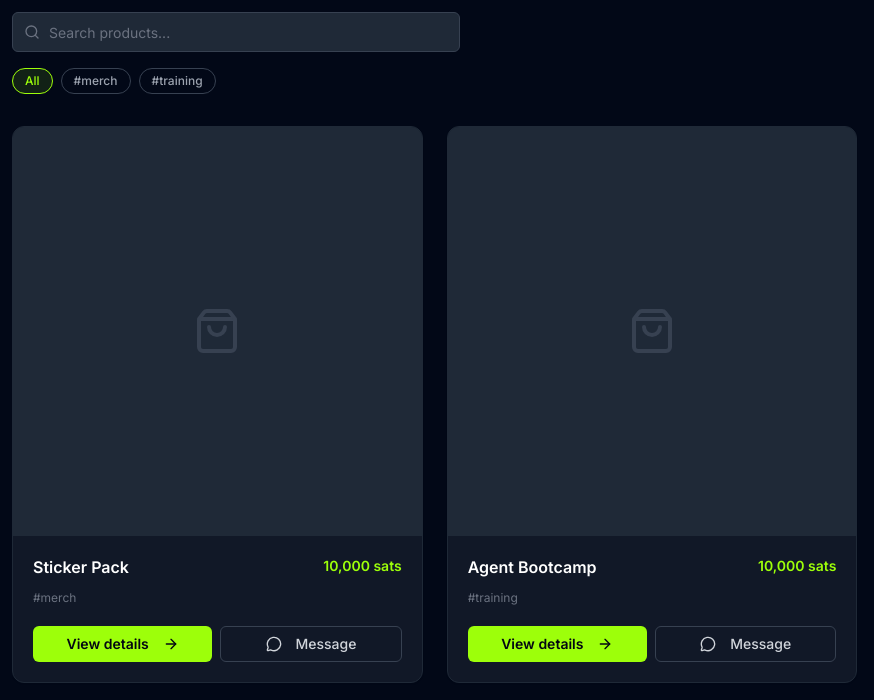
Test: ShopListings › filters listings by tag chips
Click the button "#training" at (177,81), box [138, 68, 216, 94]
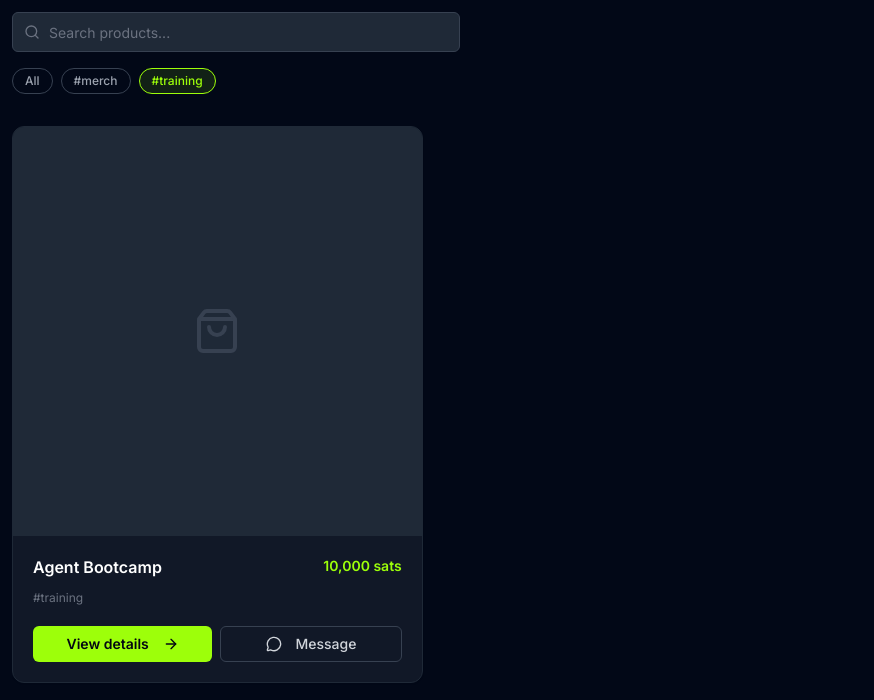
Check: the link "Agent Bootcamp" is shown, box [33, 557, 162, 577]
Check: the number of elements with test id "product-card" is 1, box [12, 126, 423, 683]
Click the button "All" at (32,81), box [12, 68, 53, 94]
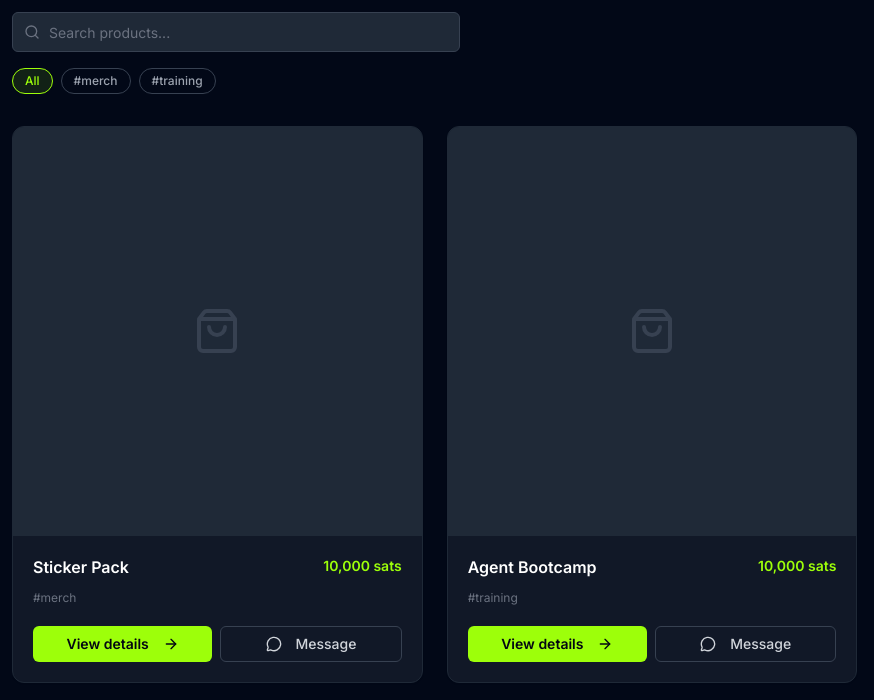
Check: the number of elements with test id "product-card" is 2, box [12, 126, 423, 683]; [447, 126, 857, 683]
